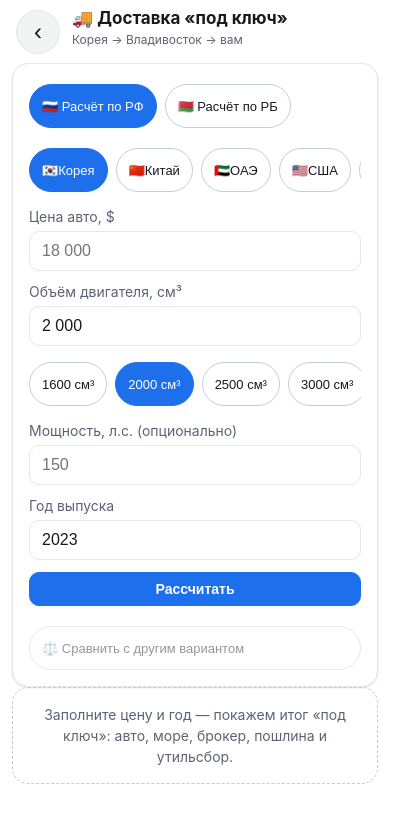
Test: Calc: юрисдикция расчёта по валюте (BYN → РБ) › переключатель «Расчёт по РБ» отправляет region=by и показывает Br
Click the button "🇧🇾 Расчёт по РБ".
click(228, 106)  # box [164, 84, 291, 128]
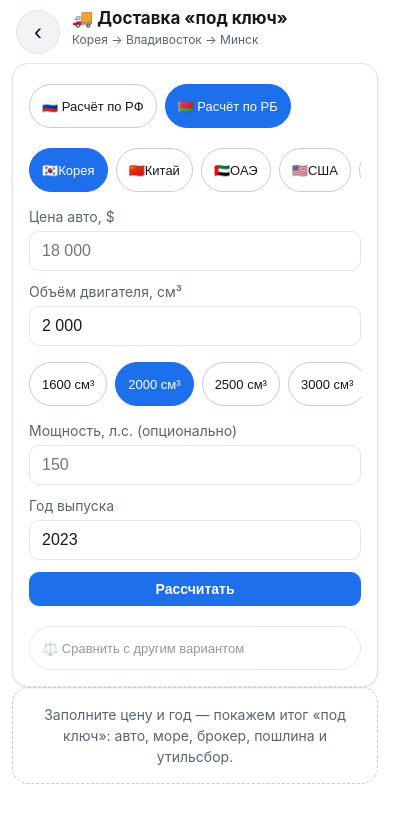
Type "18000" into the field with placeholder "18 000".
click(195, 251); type("18000")  # box [29, 231, 361, 271]
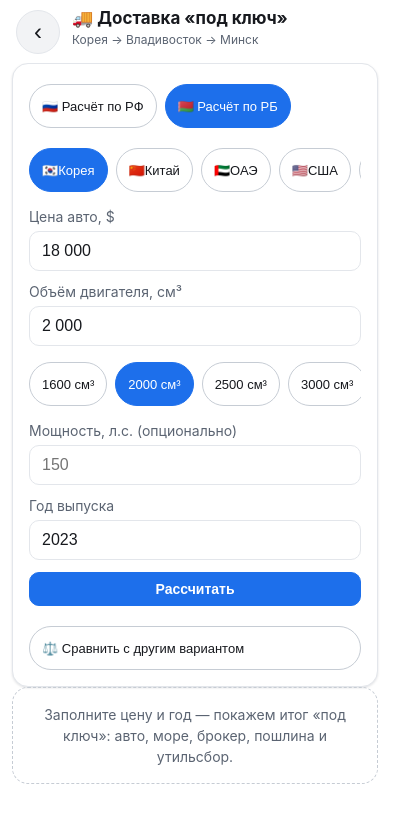
Click the button "Рассчитать".
click(195, 589)  # box [29, 572, 361, 606]
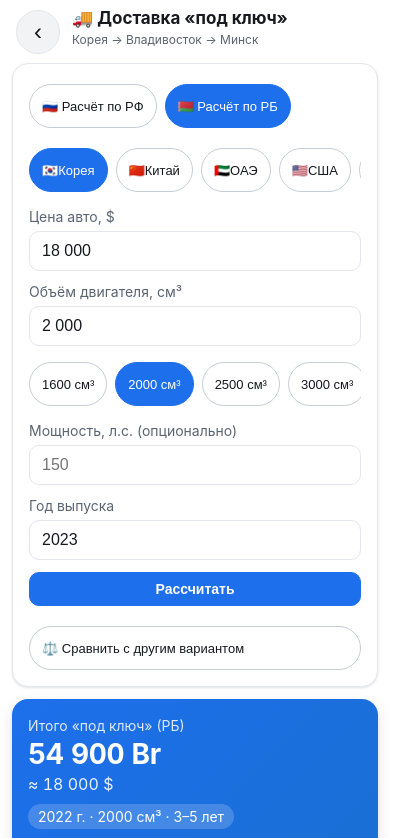
Now the text "Итого «под ключ» (РБ)" is shown, box [28, 717, 185, 734]
Now the text "54 900 Br" is shown, box [28, 737, 161, 771]
